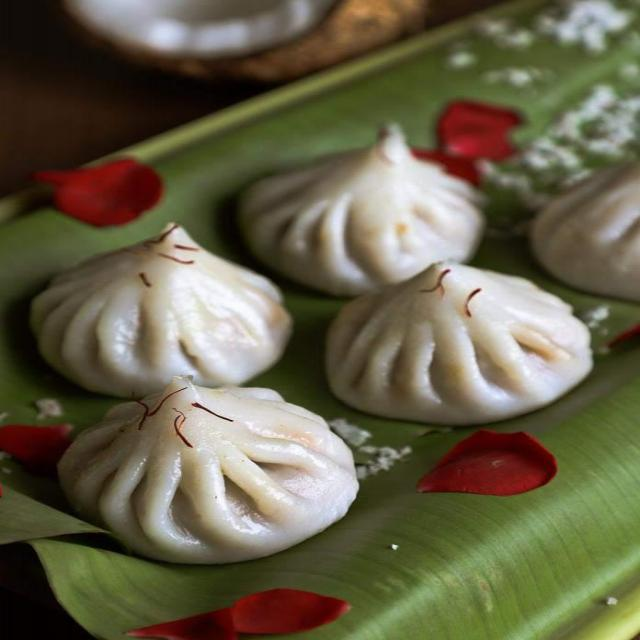modak: (72, 386, 360, 546), (20, 223, 298, 376), (312, 273, 610, 404), (232, 142, 498, 271)
